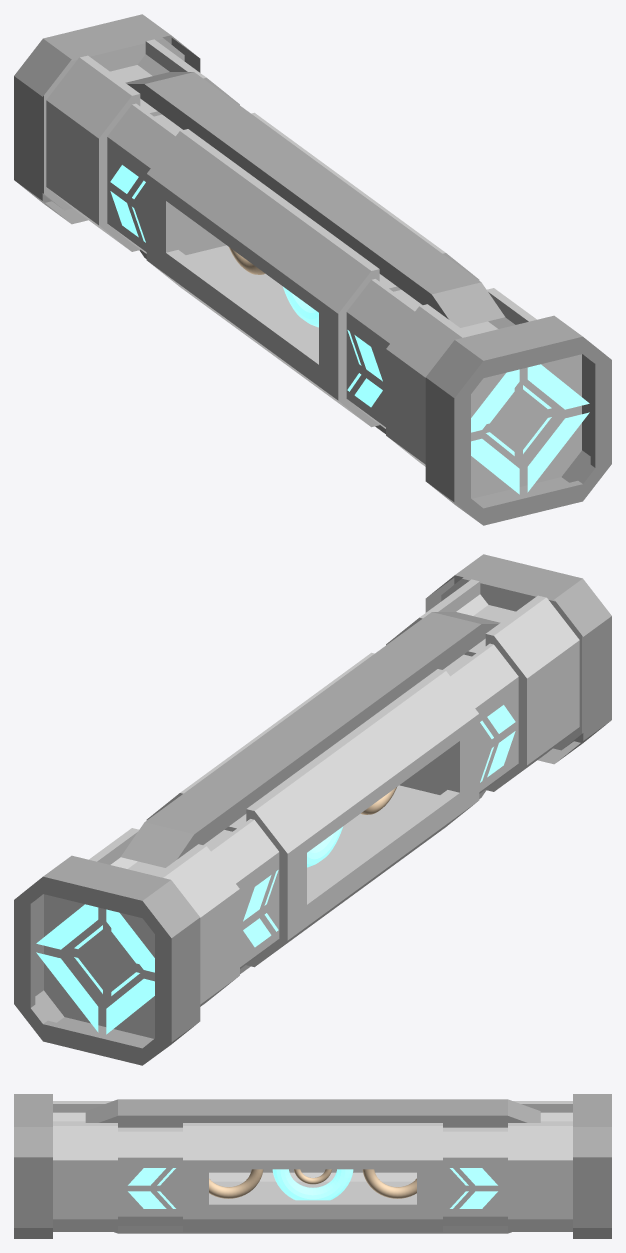
The model's file is Train.fbx.
3 renders of one model, top to bottom at view 1: azimuth 30°, elevation 25°; view 2: azimuth 150°, elevation 25°; view 3: azimuth 270°, elevation 25°, orthographic. The views are drawn at different scales.
Visible parts, largest first — view 1: Plane, Plane.001, Plane.004, Plane.005, Plane.002, Plane.006, Plane.003; view 2: Plane, Plane.001, Plane.004, Plane.005, Plane.002, Plane.006, Plane.003; view 3: Plane, Plane.004, Plane.001, Plane.006, Plane.003, Torus.001, Torus.
Boxes of the visible parts, left/top/right/bottom form: Plane: left=46, top=39, right=536, bottom=466; Plane.001: left=14, top=14, right=611, bottom=525; Plane.004: left=125, top=72, right=504, bottom=433; Plane.005: left=44, top=38, right=581, bottom=498; Plane.002: left=471, top=364, right=589, bottom=494; Plane.006: left=178, top=210, right=318, bottom=352; Plane.003: left=110, top=165, right=382, bottom=407; Plane: left=89, top=579, right=579, bottom=1006; Plane.001: left=14, top=554, right=611, bottom=1065; Plane.004: left=121, top=612, right=500, bottom=973; Plane.005: left=44, top=578, right=581, bottom=1038; Plane.002: left=36, top=904, right=154, bottom=1034; Plane.006: left=307, top=750, right=447, bottom=892; Plane.003: left=243, top=705, right=515, bottom=947; Plane: left=53, top=1101, right=572, bottom=1231; Plane.004: left=85, top=1099, right=540, bottom=1233; Plane.001: left=14, top=1094, right=611, bottom=1238; Plane.006: left=209, top=1173, right=416, bottom=1200; Plane.003: left=128, top=1168, right=497, bottom=1208; Torus.001: left=209, top=1169, right=416, bottom=1198; Torus: left=272, top=1169, right=353, bottom=1200.
Size of the model in its own units: 380 by 400 by 1840.
